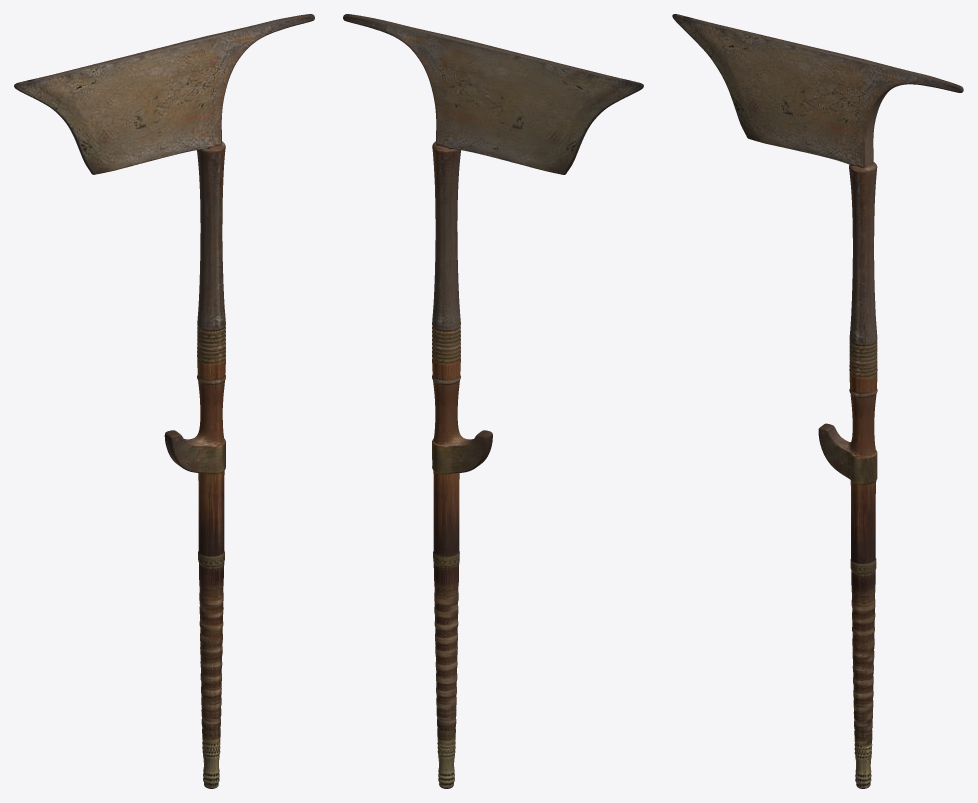
File: kalinga-sinawit.glb
3 renders of one model, left to right at view 1: azimuth 30°, elevation 25°; view 2: azimuth 150°, elevation 25°; view 3: azimuth 330°, elevation 25°, orthographic. The views are drawn at different scales.
Size of the model in its own units: 0.7955 by 1.9 by 0.0671.
1 material, 1 textured.
